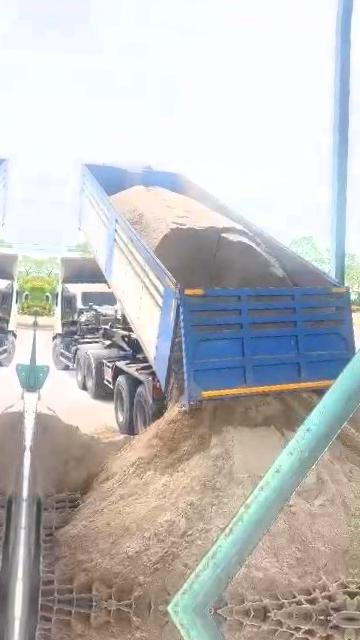sand: (57, 393, 314, 606), (227, 428, 360, 604), (111, 186, 291, 286), (33, 410, 126, 498), (349, 403, 360, 437)
